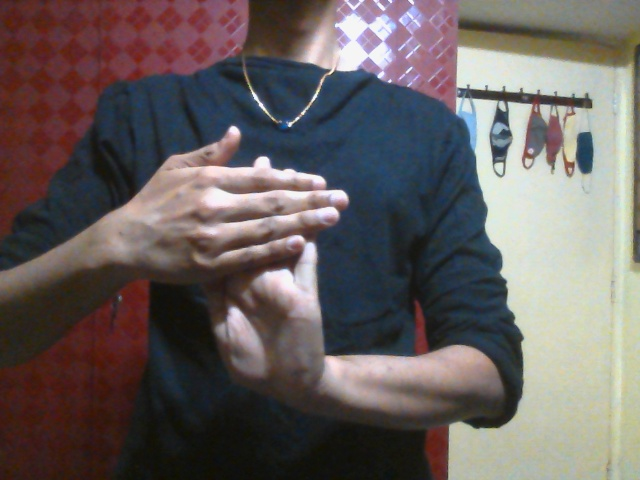H: (160, 122, 376, 400)
